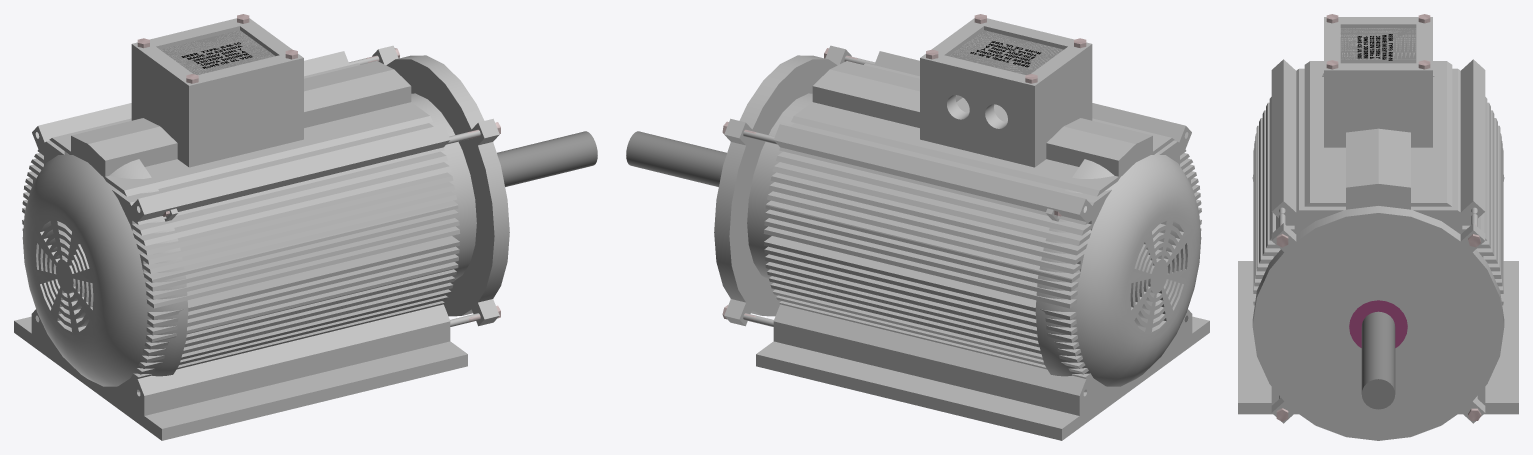
Rendered from ElectricMotor.dae.
3 renders of one model, left to right at view 1: azimuth 30°, elevation 25°; view 2: azimuth 150°, elevation 25°; view 3: azimuth 270°, elevation 25°, orthographic. The views are drawn at different scales.
Visible parts, largest first — view 1: ID312, ID5, ID1995, ID941, ID1737, group_13, ID330, ID1743, ID1707; view 2: ID312, ID5, ID1995, ID941, ID1737, group_13, ID330, ID1743, ID1707; view 3: ID1995, ID312, ID941, ID1737, group_13, ID1743, ID813, ID1707.
Part boxes in pixels (box(x1,y1,x2,y2)): ID312: box(14, 51, 467, 440); ID5: box(22, 151, 188, 392); ID1995: box(372, 45, 509, 326); ID941: box(131, 60, 303, 167); ID1737: box(131, 18, 303, 101); group_13: box(497, 131, 597, 186); ID330: box(411, 93, 476, 279); ID1743: box(160, 30, 275, 74); ID1707: box(156, 26, 279, 55); ID312: box(756, 51, 1209, 440); ID5: box(1035, 151, 1201, 392); ID1995: box(714, 45, 851, 326); ID941: box(920, 60, 1092, 167); ID1737: box(920, 18, 1092, 101); group_13: box(626, 131, 726, 186); ID330: box(747, 93, 812, 279); ID1743: box(948, 30, 1063, 74); ID1707: box(944, 26, 1067, 55); ID1995: box(1252, 206, 1504, 440); ID312: box(1238, 59, 1518, 414); ID941: box(1324, 85, 1432, 147); ID1737: box(1324, 17, 1432, 85); group_13: box(1361, 311, 1395, 409); ID1743: box(1340, 28, 1416, 63); ID813: box(1349, 300, 1407, 347); ID1707: box(1340, 24, 1416, 27).
Bounding box in the file's own units: 0.2697 × 0.1535 × 0.1317.
